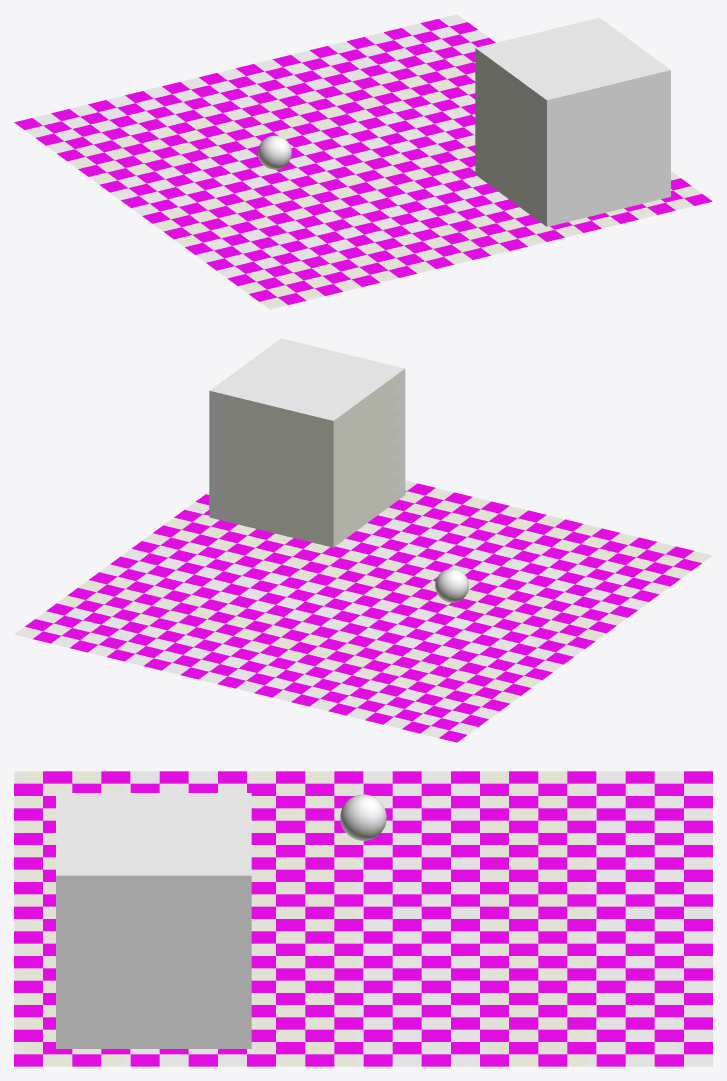
Rendered from blackball.gltf.
3 views of the same model, one above another, from view 1: azimuth 30°, elevation 25°; view 2: azimuth 150°, elevation 25°; view 3: azimuth 270°, elevation 25° (orthographic). The views are drawn at different scales.
Visible parts, largest first — view 1: Plane.010, Plane.013, Cube, Sphere; view 2: Plane.010, Plane.013, Cube, Sphere; view 3: Plane.010, Plane.013, Cube, Sphere.
Boxes of the visible parts, x1,y1,x2,y2 form: Plane.010: (25, 14, 701, 309); Plane.013: (14, 19, 712, 304); Cube: (475, 17, 670, 226); Sphere: (258, 135, 291, 169); Plane.010: (14, 480, 712, 737); Plane.013: (25, 483, 701, 742); Cube: (209, 338, 405, 547); Sphere: (435, 568, 468, 602); Plane.010: (14, 771, 712, 1066); Plane.013: (14, 771, 712, 1066); Cube: (56, 793, 251, 1048); Sphere: (340, 794, 386, 840).
Size of the model in its own units: 30 by 8.4 by 30.
